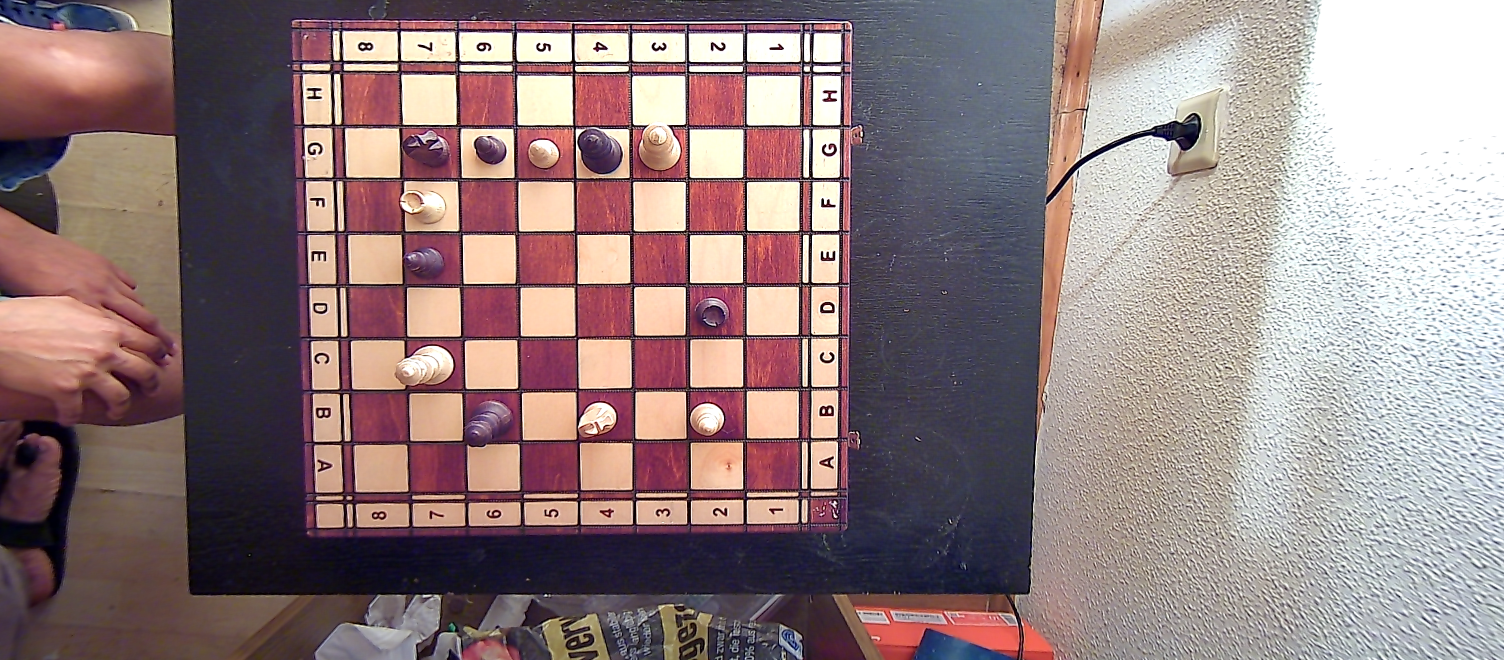black-bishop: (401, 245, 448, 284)
black-king: (573, 124, 624, 175)
black-knight: (400, 126, 450, 167)
black-pawn: (471, 131, 508, 167)
black-queen: (461, 398, 516, 450)
black-rook: (692, 293, 732, 334)
white-bishop: (688, 400, 726, 437)
white-king: (638, 120, 683, 174)
white-knight: (572, 399, 618, 441)
white-pawn: (525, 136, 562, 169)
white-queen: (393, 344, 454, 387)
white-rook: (397, 188, 449, 228)
